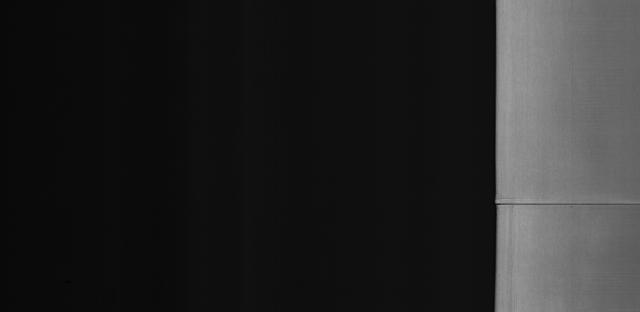welding_line: (494, 194, 640, 213)
